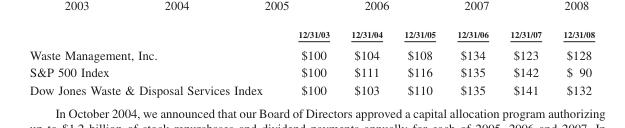table: (29, 28, 594, 96)
table column: (29, 28, 279, 96), (279, 28, 339, 96), (339, 28, 392, 96), (392, 28, 445, 96), (445, 28, 498, 96), (498, 28, 551, 96), (551, 28, 594, 96)
table column header: (29, 28, 594, 43)
table row: (29, 43, 594, 63), (29, 63, 594, 80), (29, 80, 594, 96), (29, 28, 594, 43)
